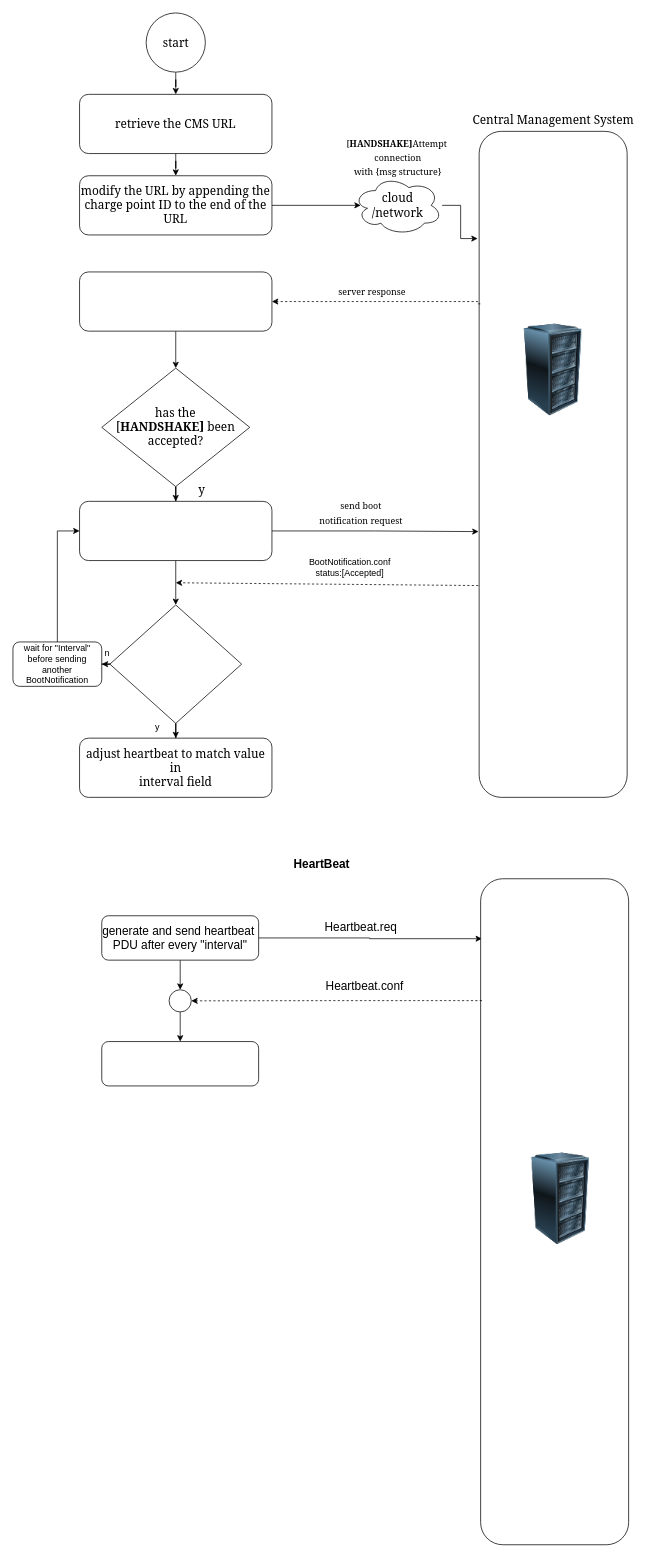
This 651x1558 diagram has some shape labels left out. The centre of each missing label's shape, as x and y in pixels:
BootNotification status == ACCEPTED?: [175,663]
generate boot notification: [175,531]
process the server response: [175,301]
update charge point time to current CMS time: [180,1063]
